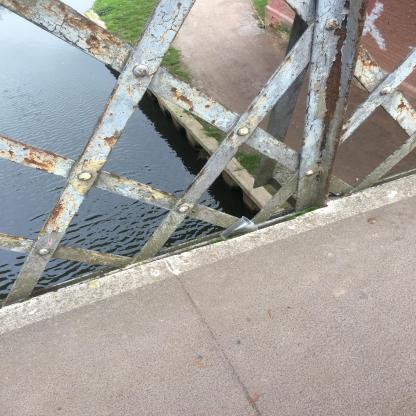plastik: (222, 217, 260, 241)
